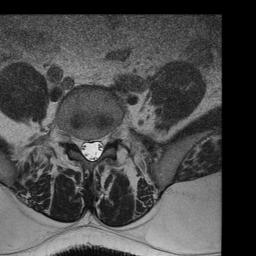CCS_normal: (88, 132, 95, 166)
LFS_normal: (103, 126, 112, 152)
LLS_normal: (95, 132, 103, 162)
RFS_normal: (72, 128, 80, 153)
RLS_normal: (80, 132, 88, 163)
